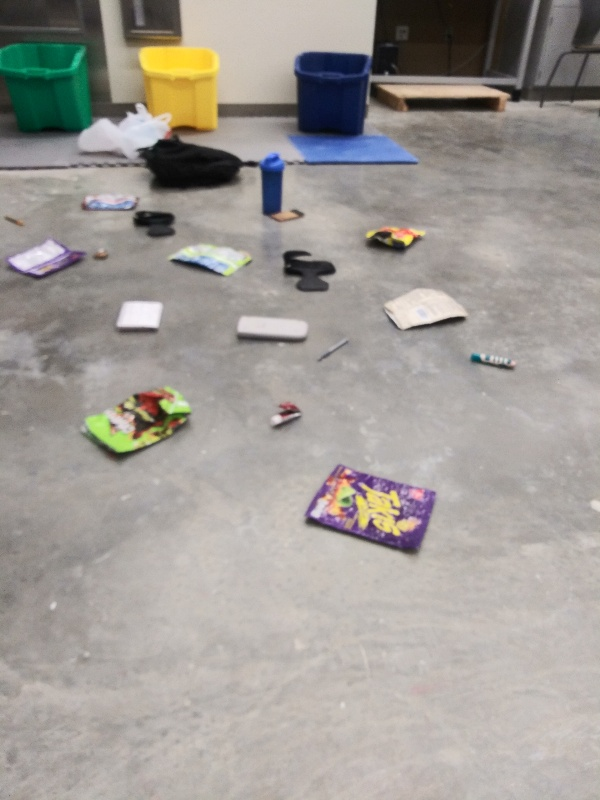bag: (300, 463, 441, 559), (75, 380, 199, 463), (160, 235, 257, 284), (378, 283, 472, 332), (2, 235, 89, 282), (359, 218, 434, 257), (74, 188, 146, 213)
